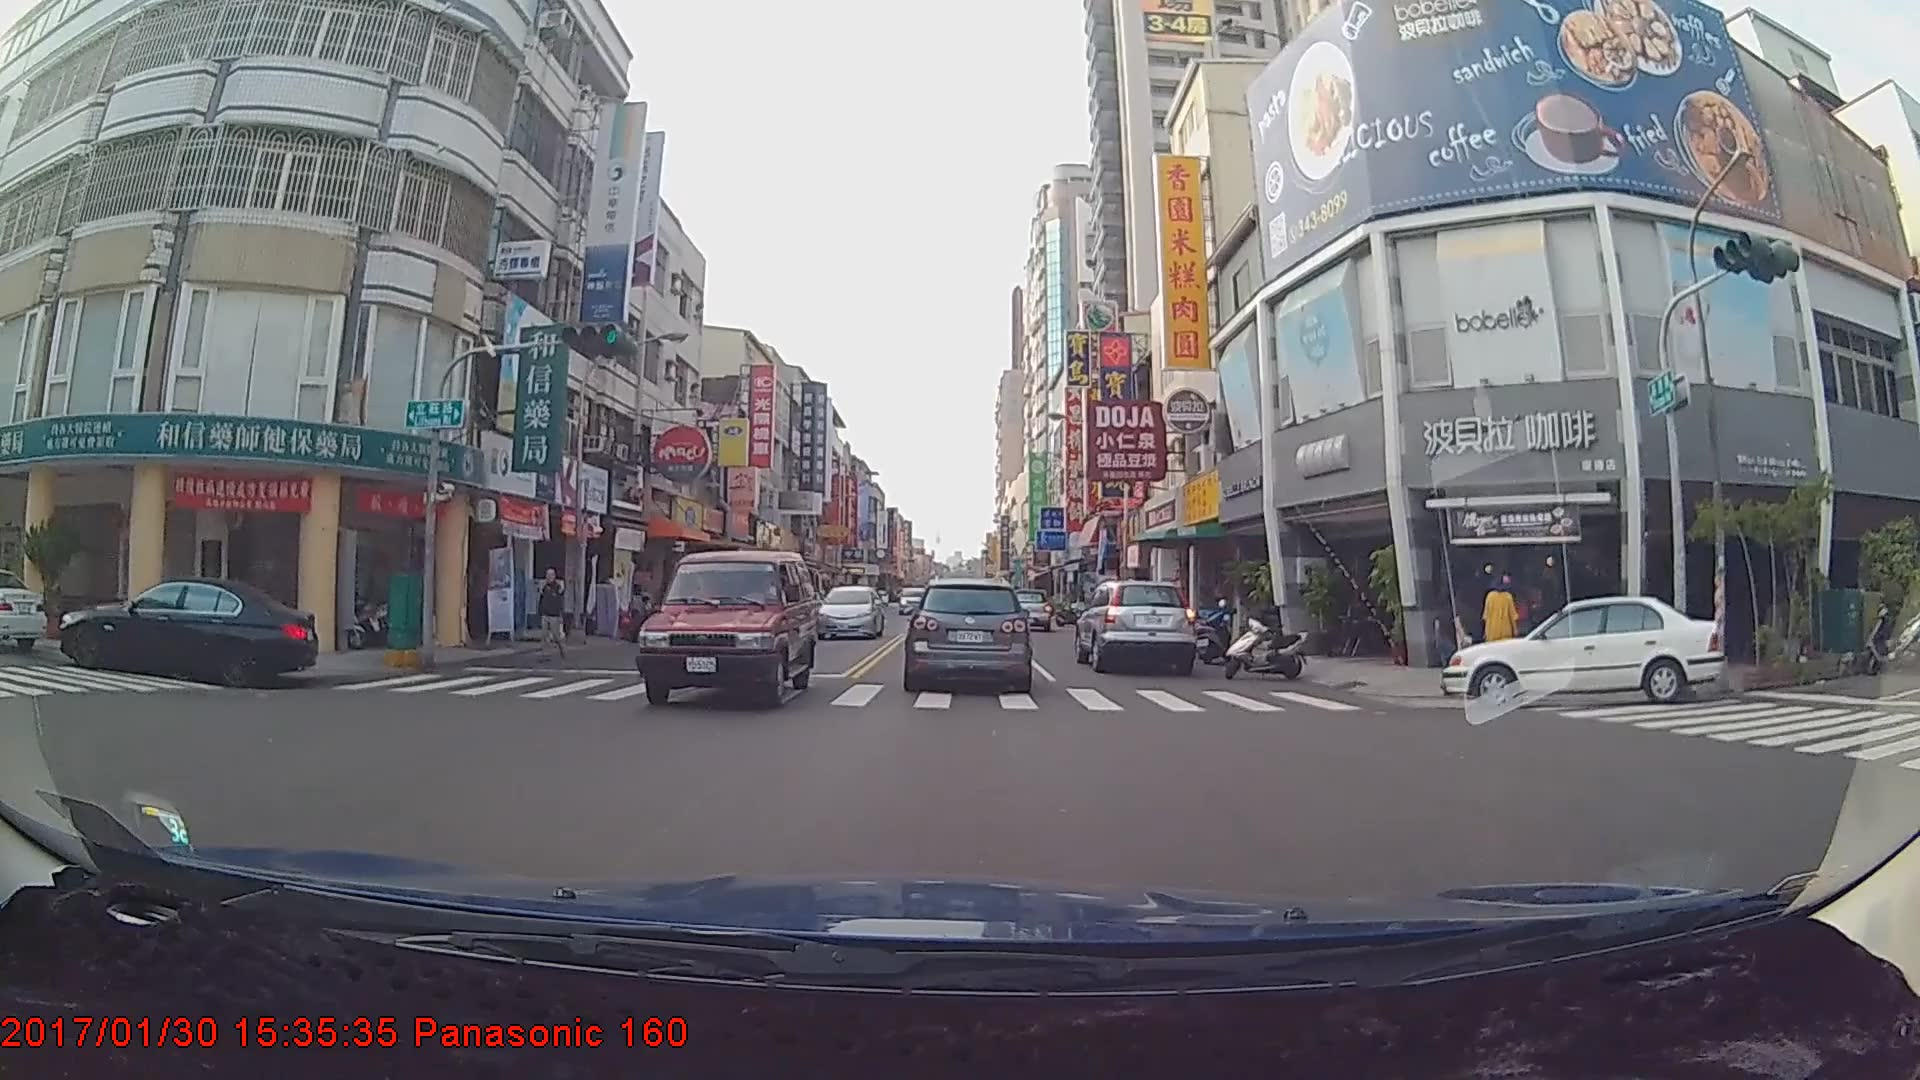pedestrian: (1432, 589, 1466, 703), (1480, 573, 1520, 668), (534, 567, 571, 663)
vehicle: (1440, 593, 1728, 708), (56, 572, 318, 687), (634, 550, 820, 707), (906, 579, 1027, 691), (1074, 575, 1196, 676), (814, 585, 884, 640), (1004, 587, 1050, 630)
